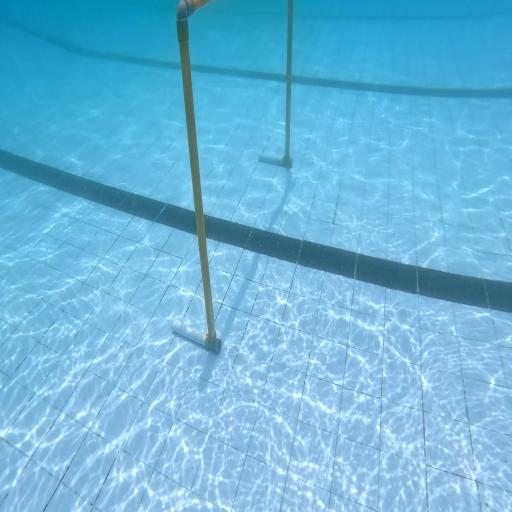gate: (172, 1, 294, 352)
